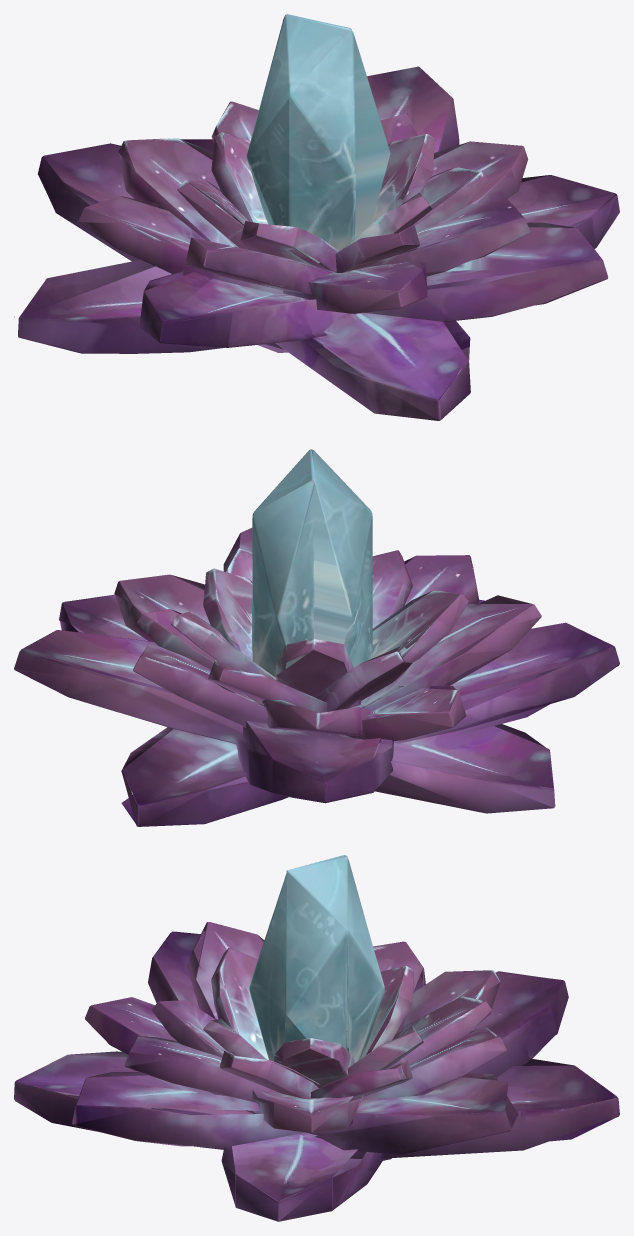
Rendered from lotus_lowPoly.glb.
3 renders of one model, top to bottom at view 1: azimuth 30°, elevation 25°; view 2: azimuth 150°, elevation 25°; view 3: azimuth 270°, elevation 25°, orthographic. The views are drawn at different scales.
Visible parts, largest first — view 1: pPlatonic3.002; view 2: pPlatonic3.002; view 3: pPlatonic3.002.
Part boxes in pixels (left/top/right/bottom): pPlatonic3.002: left=14, top=14, right=619, bottom=420; pPlatonic3.002: left=14, top=449, right=619, bottom=826; pPlatonic3.002: left=14, top=855, right=619, bottom=1221.
Bounding box in the file's own units: 2.03 × 1.01 × 2.03.
2 materials, 2 textured.
